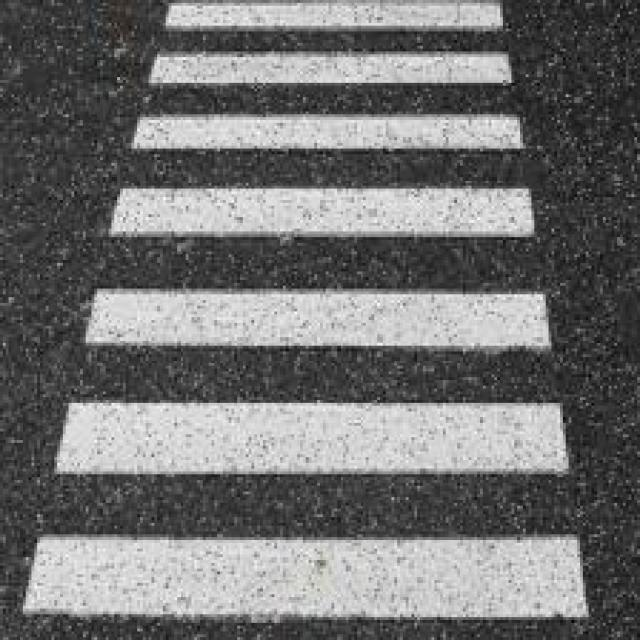walk-crossing: (20, 0, 591, 623)
